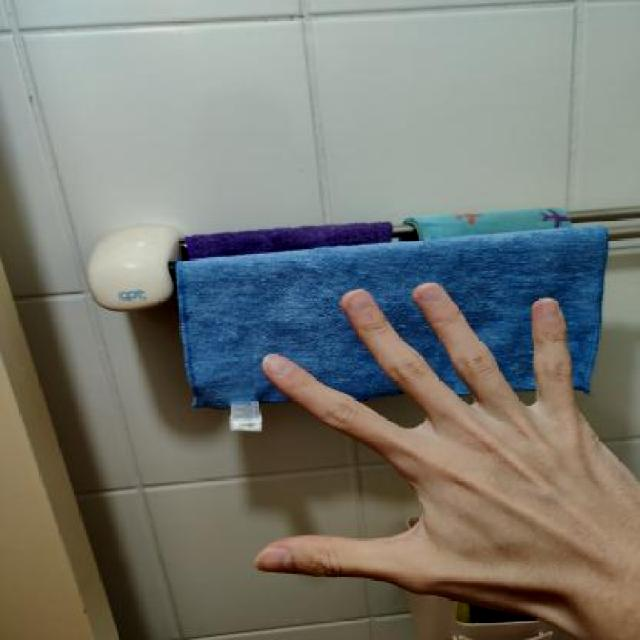no_glove: (243, 274, 640, 638)
